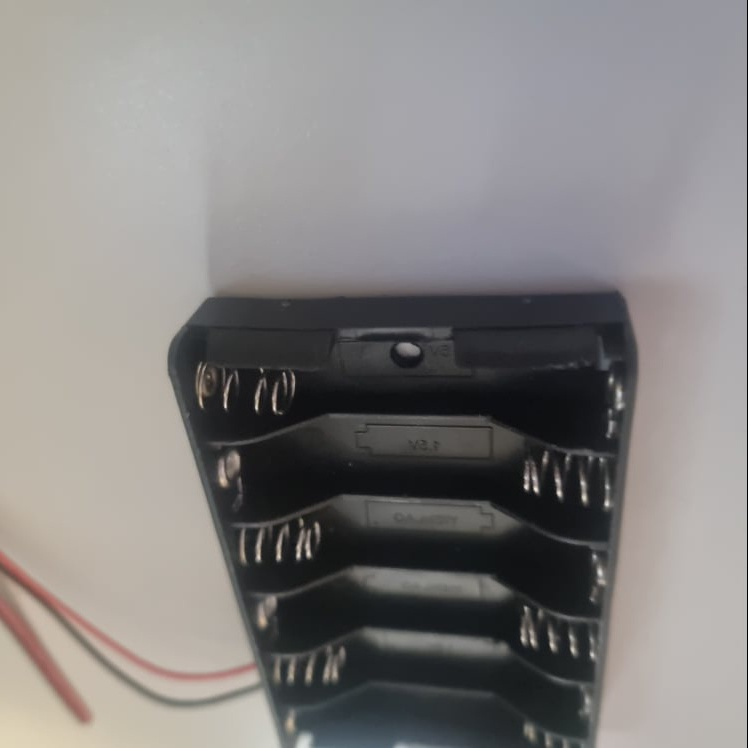BATTERY BOX: (169, 292, 640, 748)
